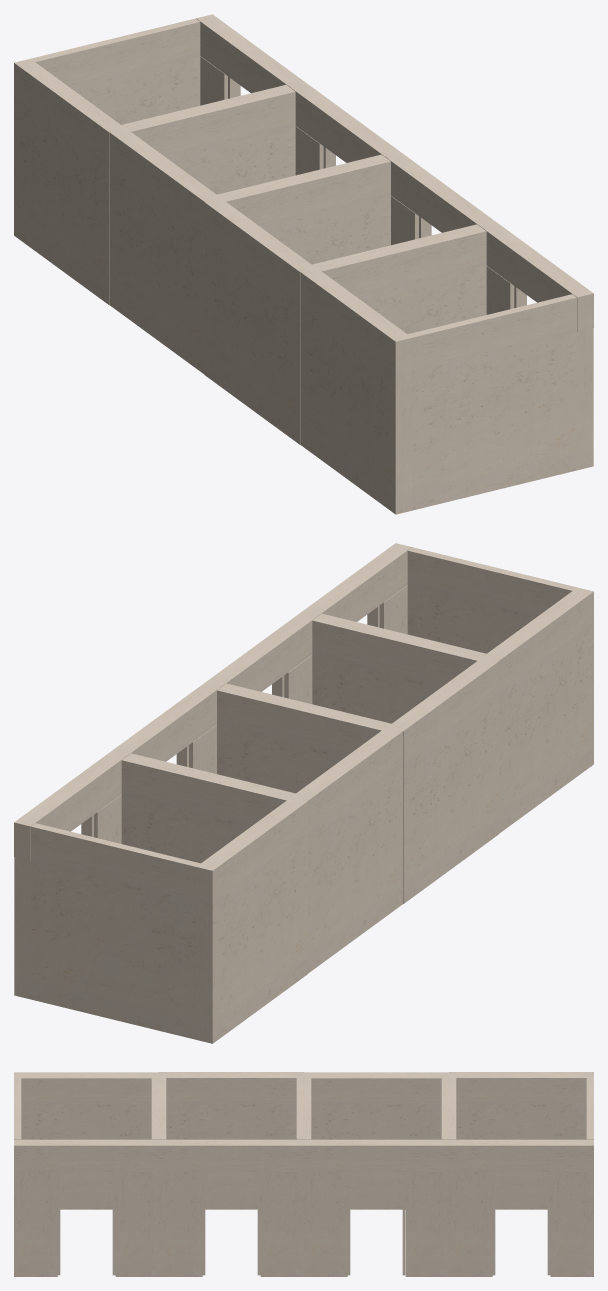
File: InnerWalls3.fbx
3 renders of one model, top to bottom at view 1: azimuth 30°, elevation 25°; view 2: azimuth 150°, elevation 25°; view 3: azimuth 270°, elevation 25°, orthographic. The views are drawn at different scales.
Visible parts, largest first — view 1: walls, top; view 2: walls, top; view 3: walls, top.
Part boxes in pixels (x1=…): walls: x1=14, y1=56, x2=593, y2=514; top: x1=14, y1=14, x2=593, y2=376; walls: x1=14, y1=585, x2=593, y2=1043; top: x1=14, y1=543, x2=593, y2=905; walls: x1=14, y1=1104, x2=593, y2=1276; top: x1=14, y1=1072, x2=593, y2=1171.
Bounding box in the file's own units: 12.02 × 10 × 40.
